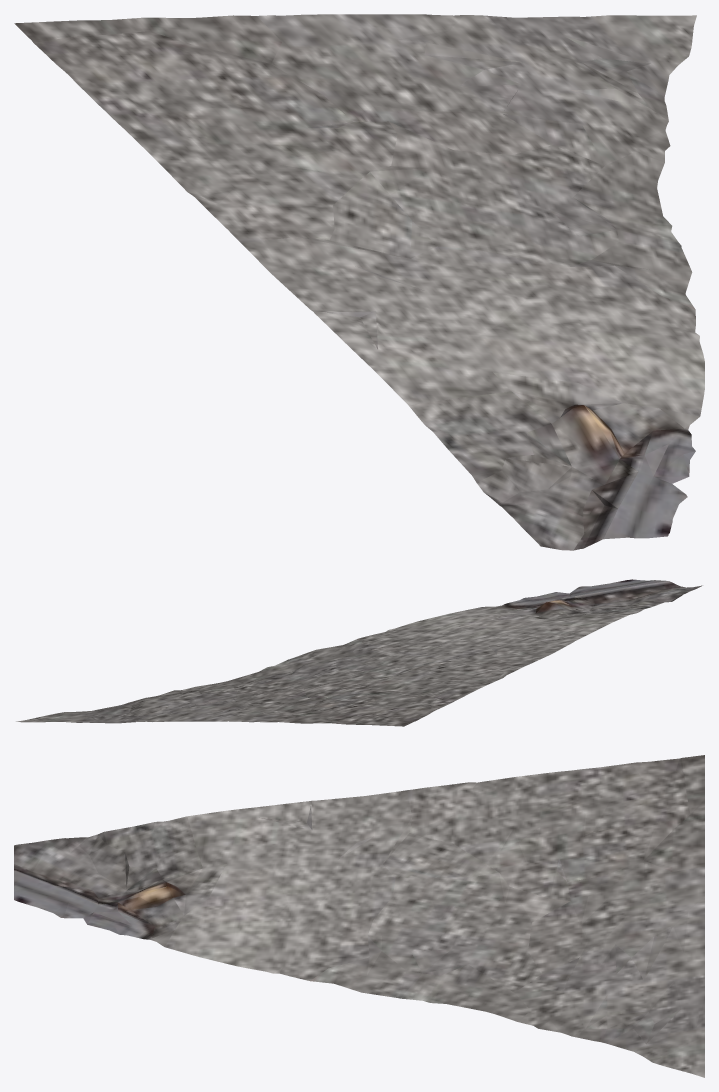
3 views of the same model, one above another, from view 1: azimuth 30°, elevation 25°; view 2: azimuth 150°, elevation 25°; view 3: azimuth 270°, elevation 25° (orthographic). The views are drawn at different scales.
Size of the model in its own units: 0.6272 by 0.1394 by 0.8374.
1 material, 1 textured.
